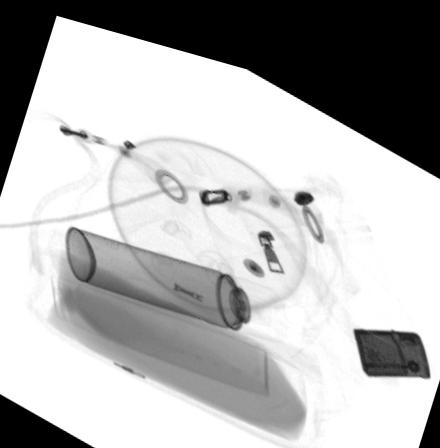Lighter: (352, 306, 430, 355)
Sprayer: (66, 221, 288, 329)
